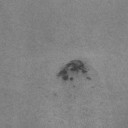iron sheet ash: (56, 59, 88, 82), (86, 76, 92, 80)
